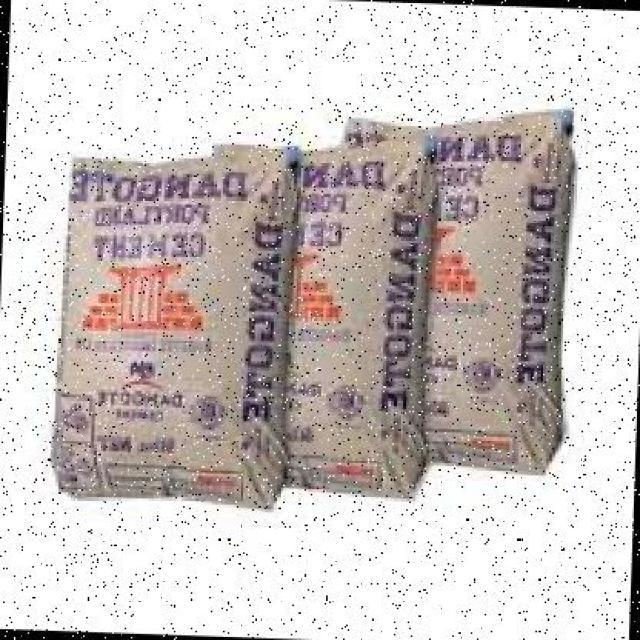gunny_bag: (56, 155, 295, 505), (280, 143, 437, 491), (422, 107, 571, 463)
